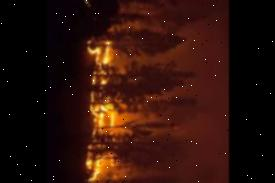fire: (84, 41, 112, 85), (84, 156, 114, 182), (90, 106, 118, 130)
